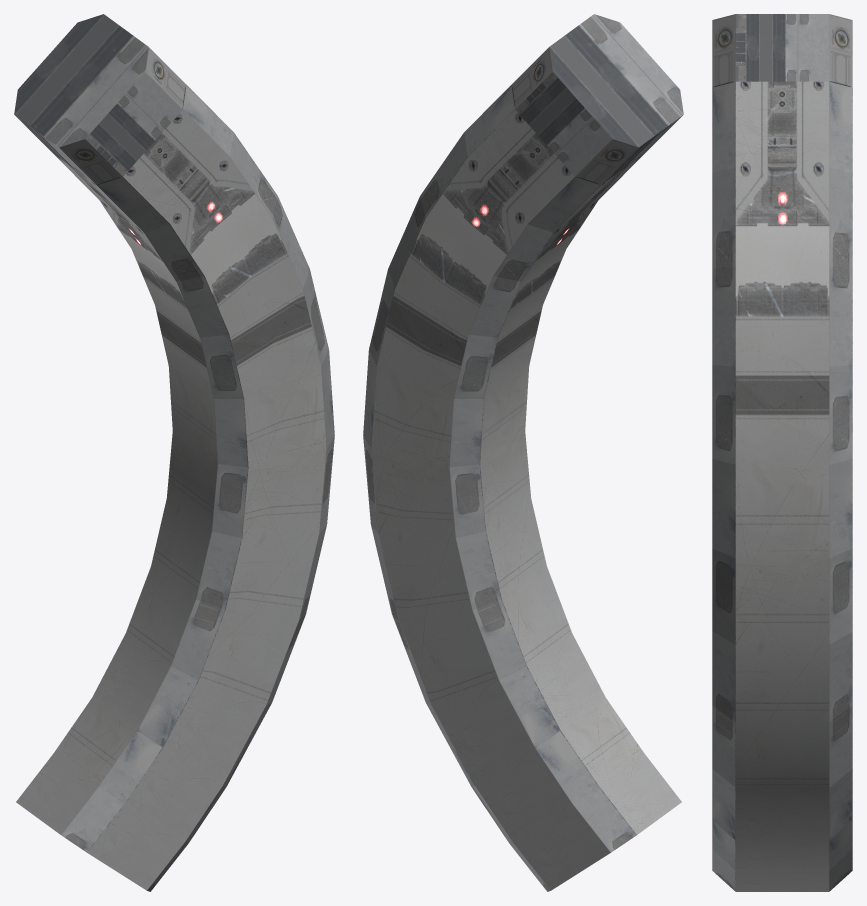
File: SM_PillarsB_acc3.fbx
The picture shows the model from 3 angles, left to right: view 1: azimuth 30°, elevation 25°; view 2: azimuth 150°, elevation 25°; view 3: azimuth 270°, elevation 25°; orthographic projection. The views are drawn at different scales.
Visible parts, largest first — view 1: SM_PillarsB_acc3_LOD0; view 2: SM_PillarsB_acc3_LOD0; view 3: SM_PillarsB_acc3_LOD0.
Part boxes in pixels (x1,y1,x2,y2): SM_PillarsB_acc3_LOD0: (14,14,334,891); SM_PillarsB_acc3_LOD0: (363,14,683,891); SM_PillarsB_acc3_LOD0: (712,14,852,891).
Bounding box in the file's own units: 141 × 60 × 414.
2 materials, 2 textured.
